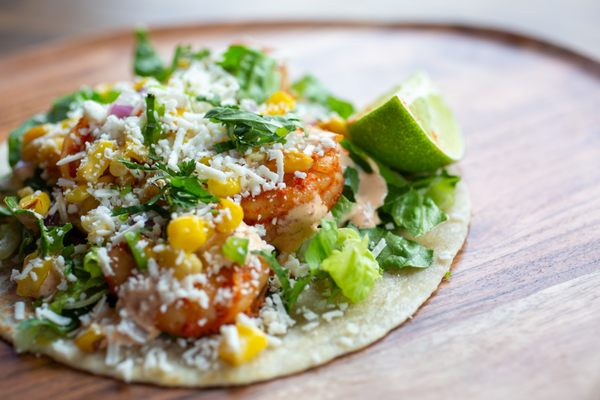soup: (0, 37, 473, 386)
